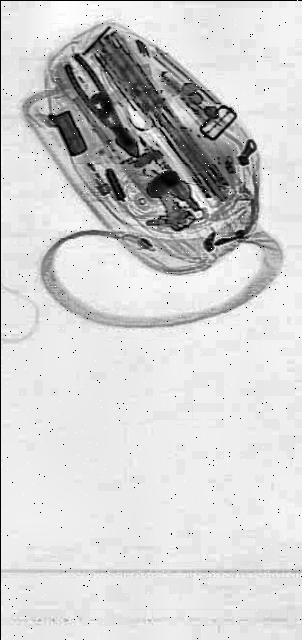Pliers: (63, 44, 144, 174)
